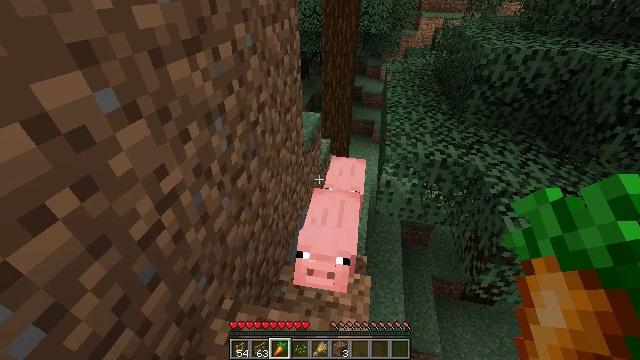pig: (294, 187, 356, 292), (323, 156, 367, 193)
